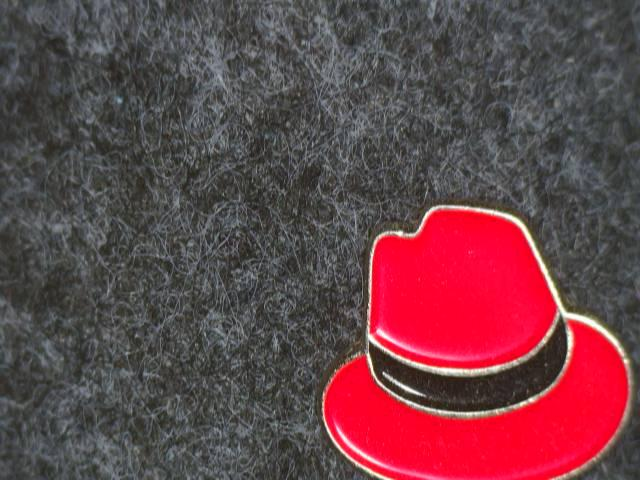Red-Hat: (285, 179, 640, 480)
